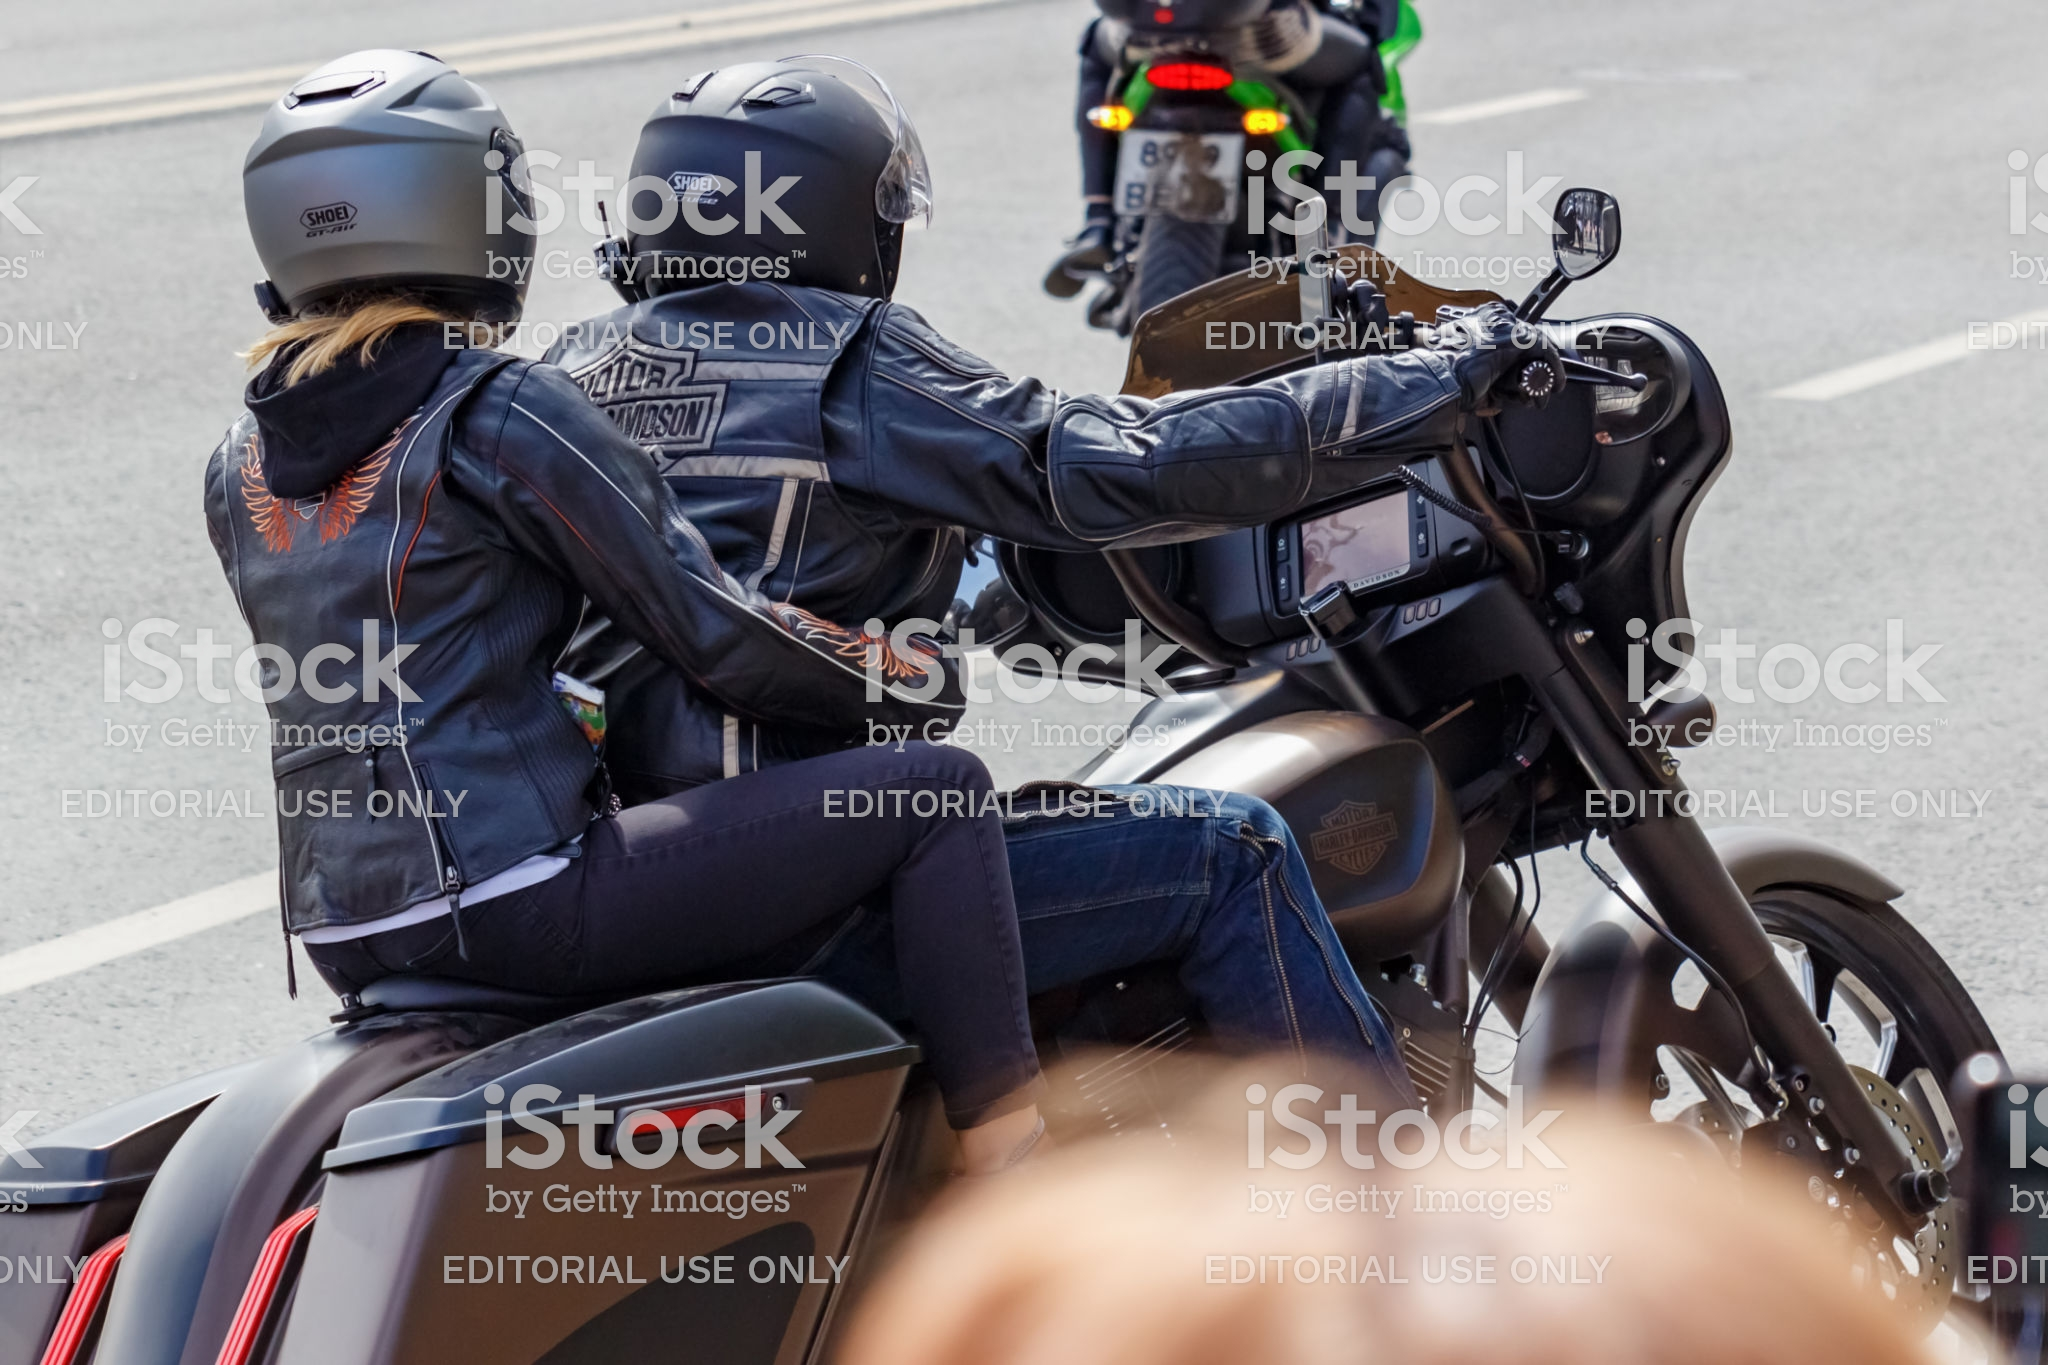helmet: (238, 49, 519, 329), (623, 79, 936, 315)
